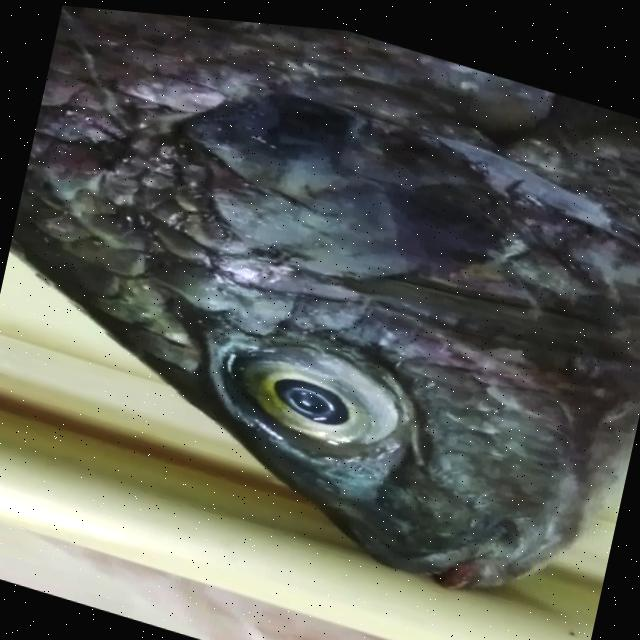Non-Fresh: (185, 294, 438, 492)
